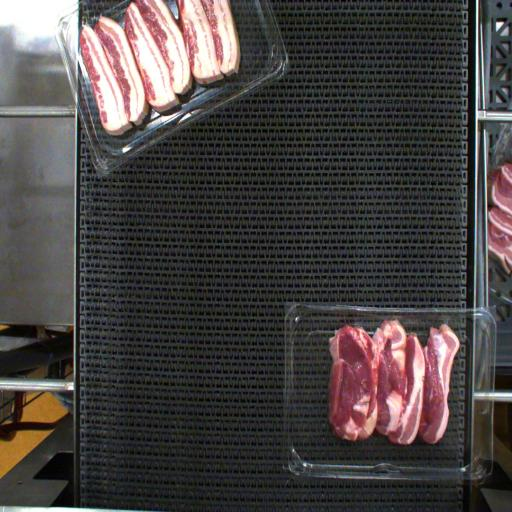packaging-error: (352, 314, 366, 330), (440, 313, 452, 327)
